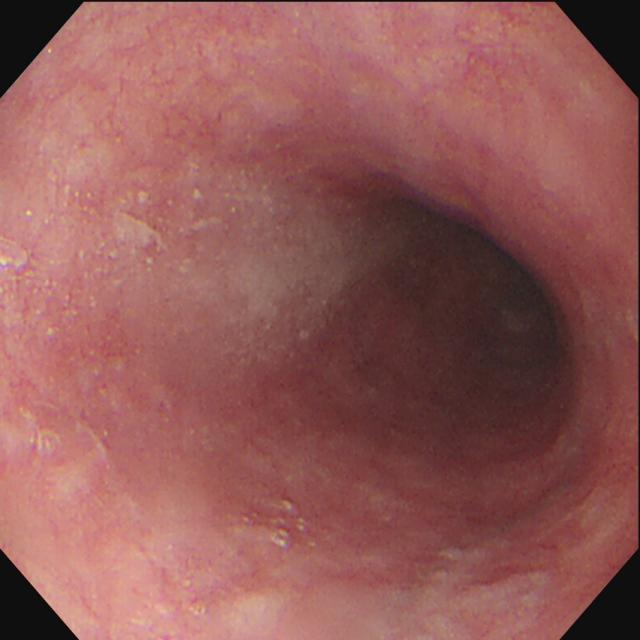E: (427, 191, 581, 381)
J: (112, 170, 374, 355), (432, 548, 552, 604), (270, 498, 308, 550)
